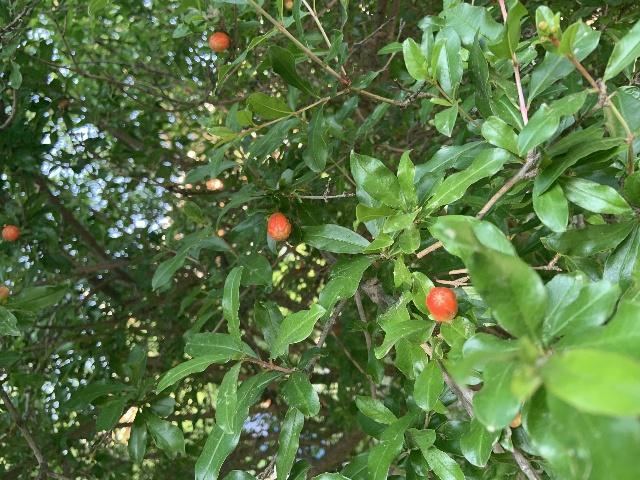bud: (425, 286, 458, 322), (267, 212, 290, 240), (208, 31, 230, 52), (2, 224, 19, 240), (538, 21, 548, 32)
